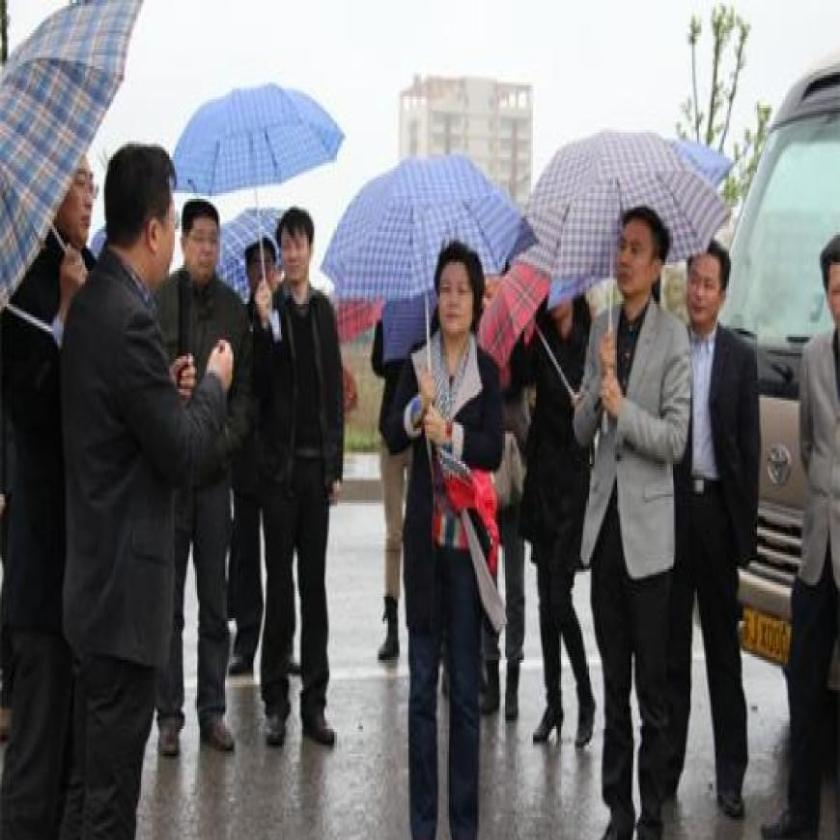Sin_casco: (102, 137, 176, 300), (613, 200, 674, 326), (430, 236, 486, 346), (683, 234, 735, 334), (177, 197, 225, 289), (274, 204, 320, 292), (57, 148, 95, 252), (816, 226, 840, 339)
